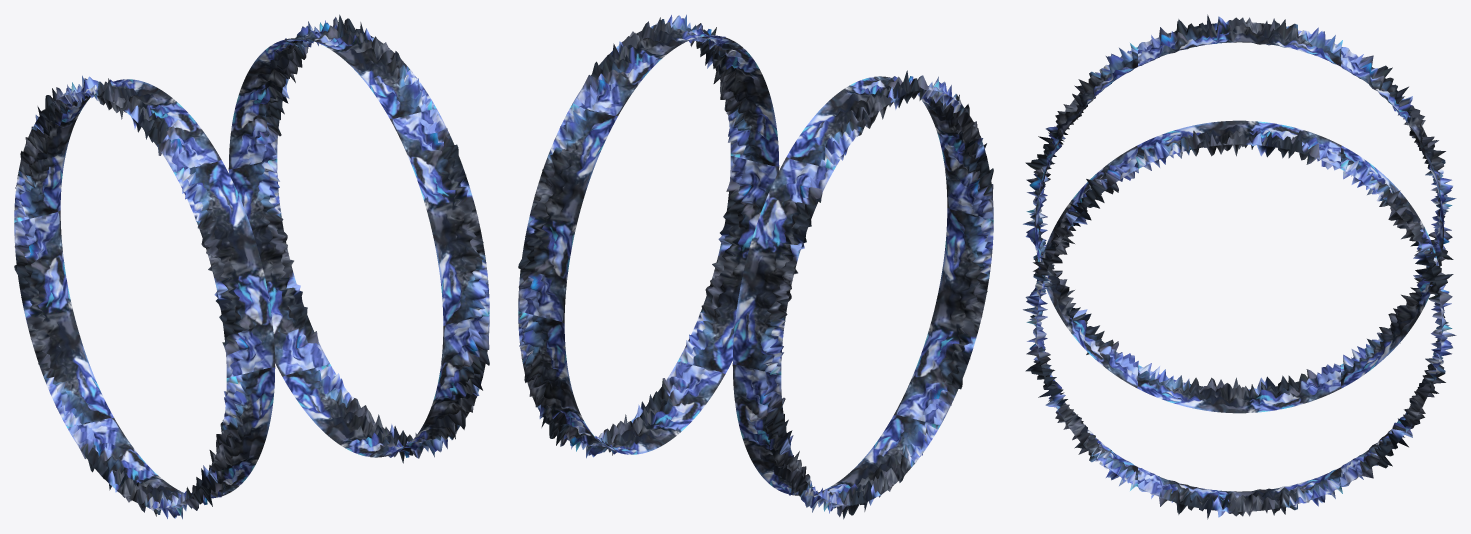
File: SM_GroundBorder_001.FBX
The picture shows the model from 3 angles, left to right: view 1: azimuth 30°, elevation 25°; view 2: azimuth 150°, elevation 25°; view 3: azimuth 270°, elevation 25°; orthographic projection. The views are drawn at different scales.
Parts seen in each view (by area): view 1: SM_GroundBorder_001; view 2: SM_GroundBorder_001; view 3: SM_GroundBorder_001.
Part boxes in pixels (x1,y1,x2,y2): SM_GroundBorder_001: (14, 14, 489, 519); SM_GroundBorder_001: (518, 14, 993, 519); SM_GroundBorder_001: (1023, 14, 1456, 519).
Bounding box in the file's own units: 16261 × 24116 × 24393.
